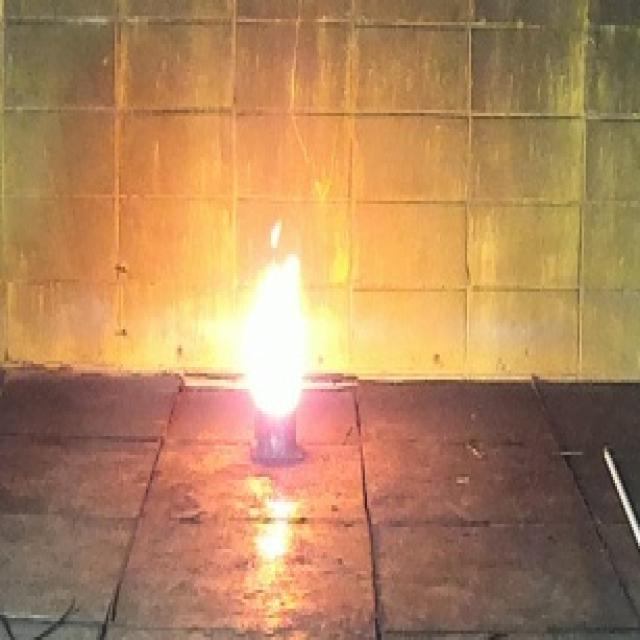Fire: (245, 220, 302, 418)
